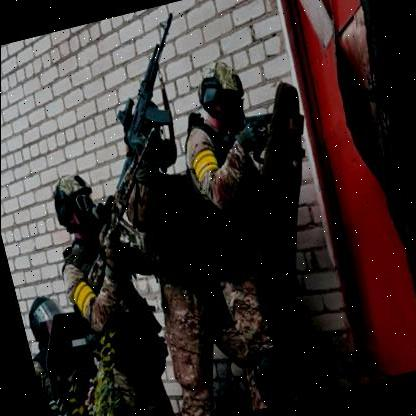rifle: (53, 127, 196, 308), (94, 11, 209, 171), (236, 105, 285, 154)
